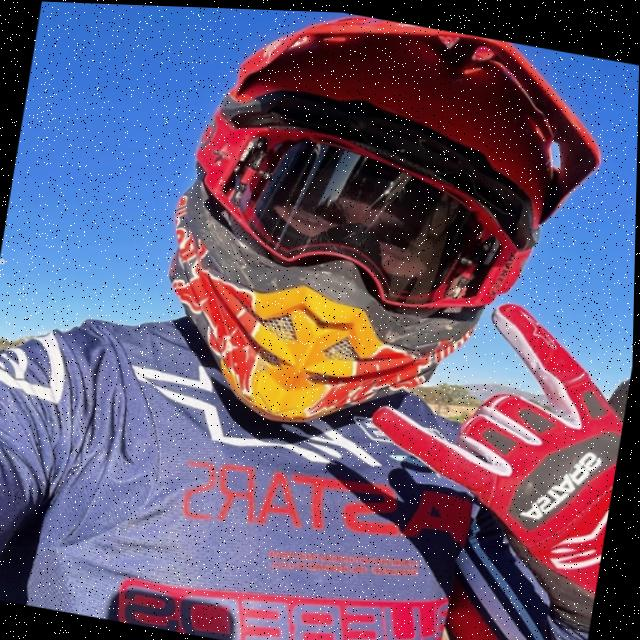illegal_helmet: (137, 4, 625, 476)
